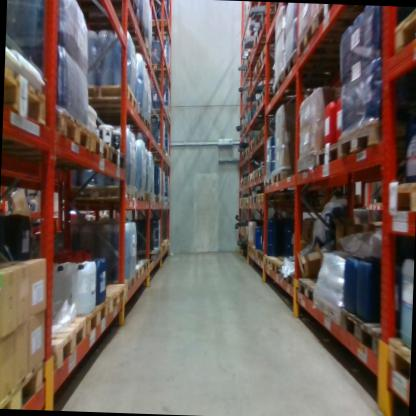pallet: (4, 56, 61, 139), (296, 22, 368, 72), (342, 115, 407, 168), (0, 356, 60, 408), (341, 307, 399, 353), (59, 299, 114, 346), (74, 76, 137, 115), (85, 0, 154, 34), (312, 5, 377, 40), (47, 317, 91, 368), (53, 102, 99, 149), (316, 287, 353, 334), (69, 183, 137, 206), (250, 30, 288, 70), (385, 170, 416, 219), (91, 282, 131, 318), (270, 73, 307, 109), (297, 271, 331, 309), (394, 9, 416, 60), (314, 139, 346, 174), (279, 53, 307, 91), (271, 171, 310, 198), (390, 335, 411, 385), (282, 259, 306, 299), (252, 98, 292, 119), (111, 107, 145, 131), (256, 189, 294, 210), (91, 125, 112, 163), (141, 59, 173, 83), (273, 254, 297, 284), (120, 35, 153, 56), (251, 60, 282, 82), (258, 9, 292, 29), (108, 144, 132, 172), (147, 101, 174, 125), (151, 17, 176, 41), (127, 244, 161, 261), (265, 246, 284, 275), (115, 273, 138, 291), (258, 85, 273, 108), (258, 120, 272, 144), (257, 245, 271, 267), (263, 178, 280, 196), (131, 263, 146, 280), (141, 257, 155, 275), (131, 189, 145, 206), (255, 163, 267, 182), (250, 193, 262, 208), (150, 188, 160, 205), (244, 242, 255, 256), (250, 166, 258, 185), (249, 136, 256, 157), (243, 192, 252, 208), (142, 189, 150, 206), (252, 241, 259, 260), (255, 131, 262, 149), (247, 171, 254, 185), (144, 116, 150, 132), (164, 240, 170, 250), (241, 150, 245, 164), (242, 177, 247, 188), (161, 245, 167, 252), (245, 146, 249, 156)
